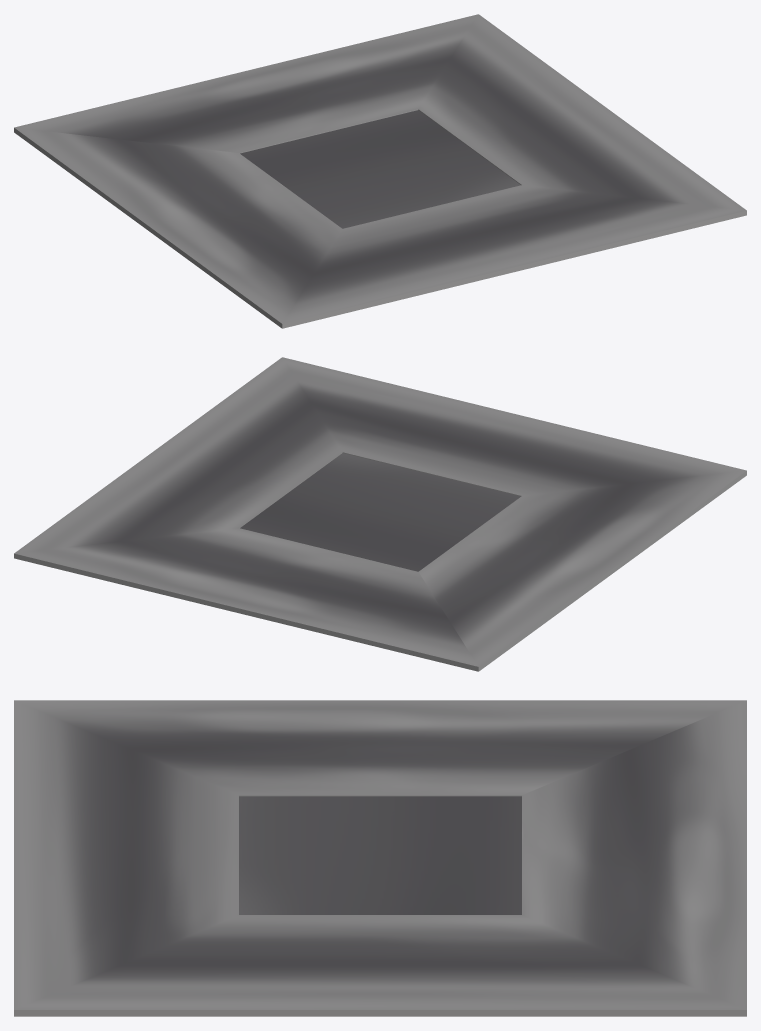
Rendered from Placment_Square.fbx.
3 views of the same model, one above another, from view 1: azimuth 30°, elevation 25°; view 2: azimuth 150°, elevation 25°; view 3: azimuth 270°, elevation 25° (orthographic). The views are drawn at different scales.
Parts seen in each view (by area): view 1: Road_10X54, Road_10X64; view 2: Road_10X54, Road_10X64; view 3: Road_10X54, Road_10X64.
Boxes of the visible parts, x1,y1,x2,y2 form: Road_10X54: (14, 14, 746, 327); Road_10X64: (14, 131, 746, 328); Road_10X54: (14, 357, 746, 670); Road_10X64: (14, 474, 746, 671); Road_10X54: (14, 700, 746, 1014); Road_10X64: (14, 1015, 746, 1016).
Bounding box in the file's own units: 1000 × 10.03 × 1000.
